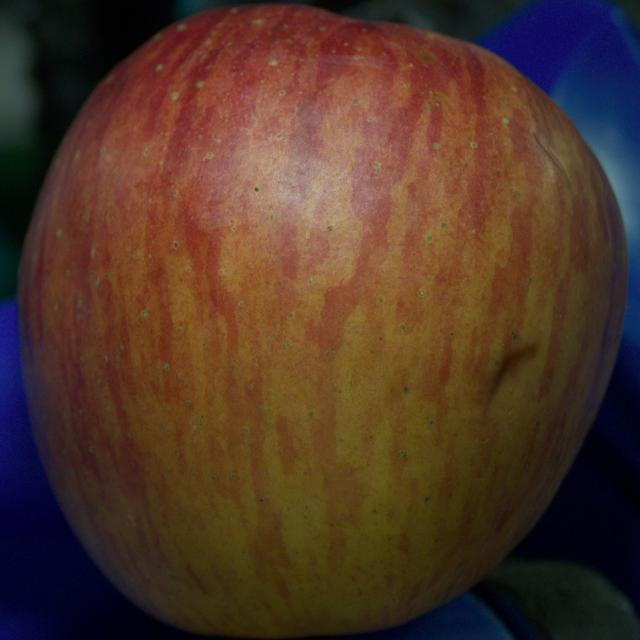apple: (18, 4, 627, 638)
scratch: (488, 347, 538, 404), (534, 133, 568, 179)
